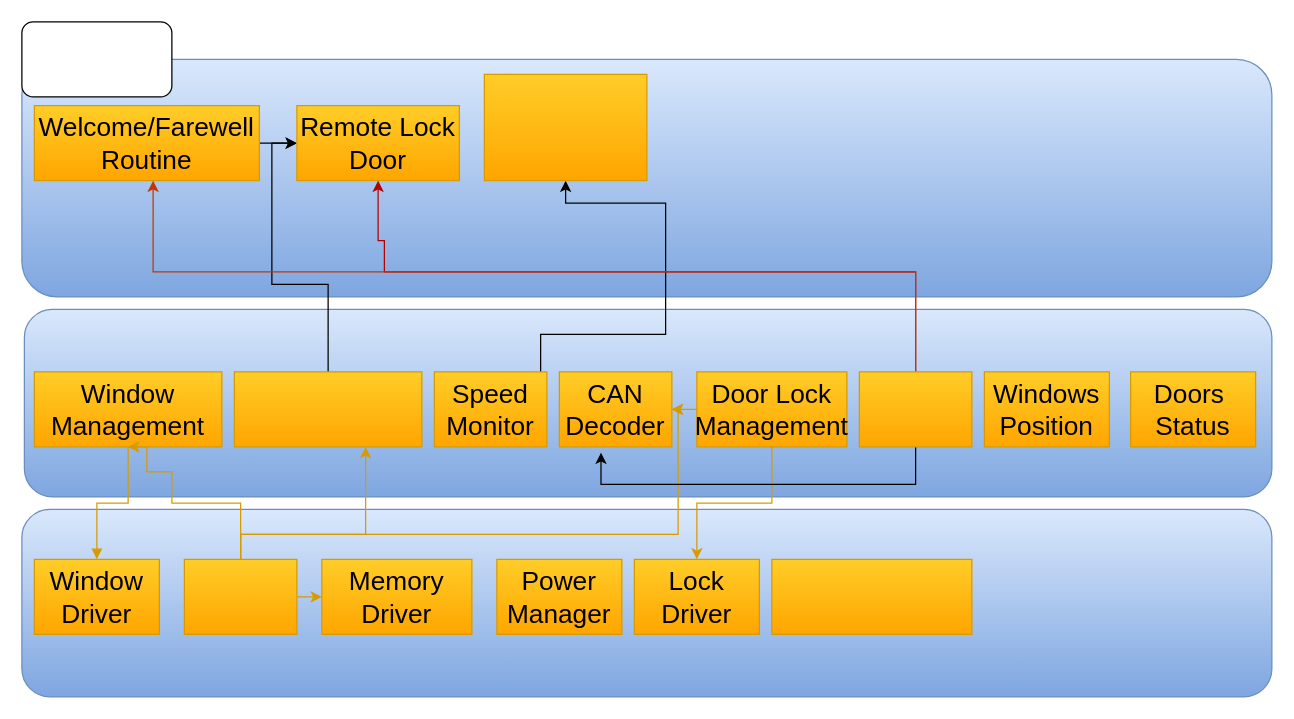
This 1294x719 diagram has some shape labels left out. The shapes that lost their labels are listed below. From the top down, each one's centre as x and y in pixels, then its label:
the point at 96,59: BCM
the point at 565,127: Automatic Lock/Unlock Door
the point at 327,409: Remote Key Monitor
the point at 915,409: Error Handler
the point at 240,596: I/O Driver
the point at 871,596: Communications Driver
